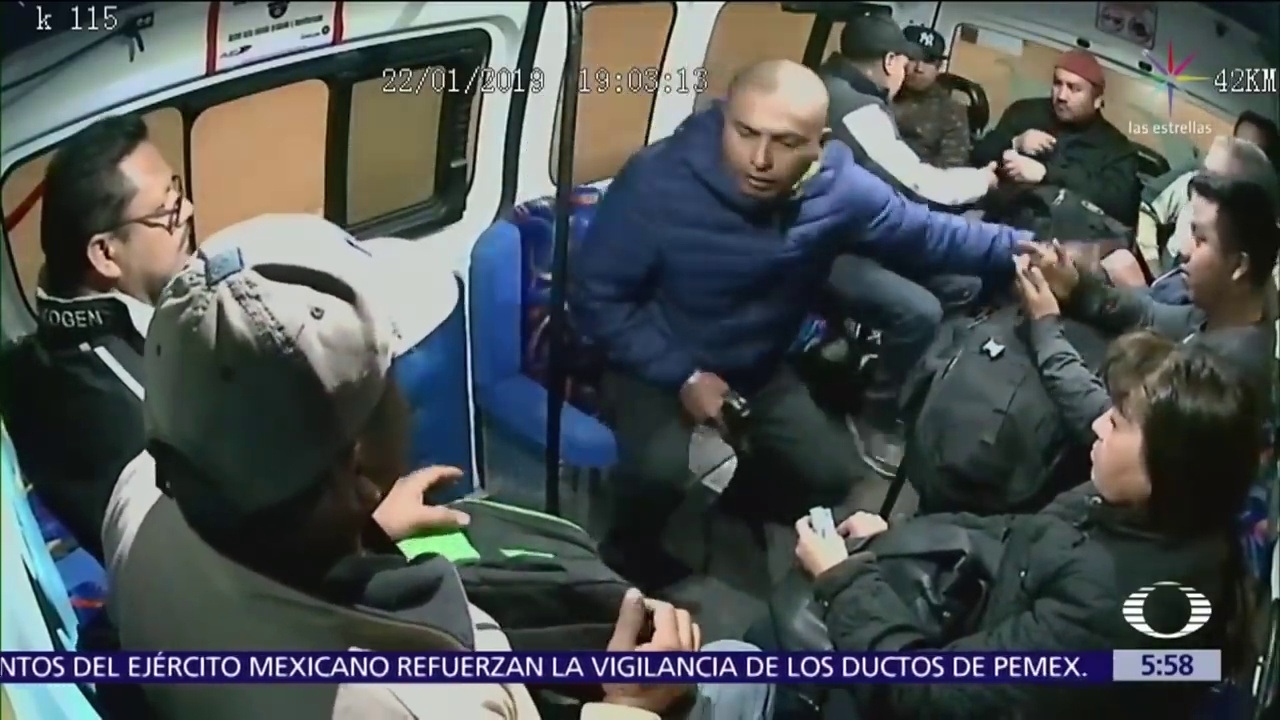pistol: (716, 394, 752, 453)
